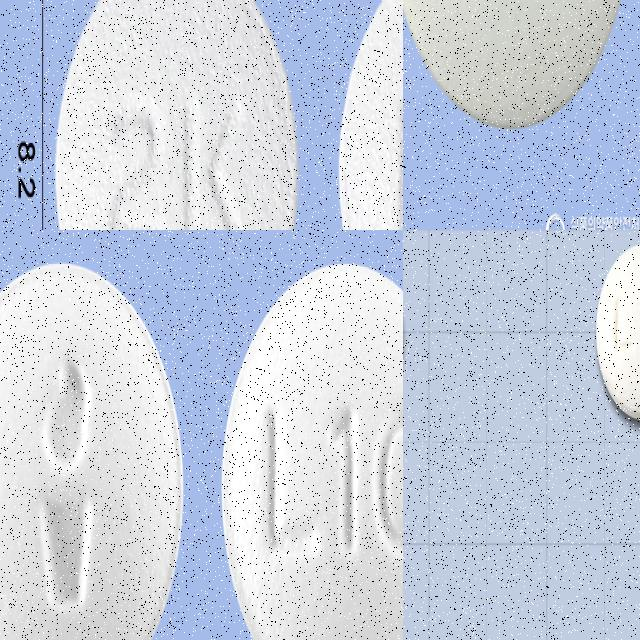Famviro: (403, 0, 636, 130)
Leflu - 20mg: (0, 256, 185, 640), (219, 256, 403, 640)
Letroxin: (55, 0, 300, 230)
Levostar -500mg: (596, 241, 640, 421)
